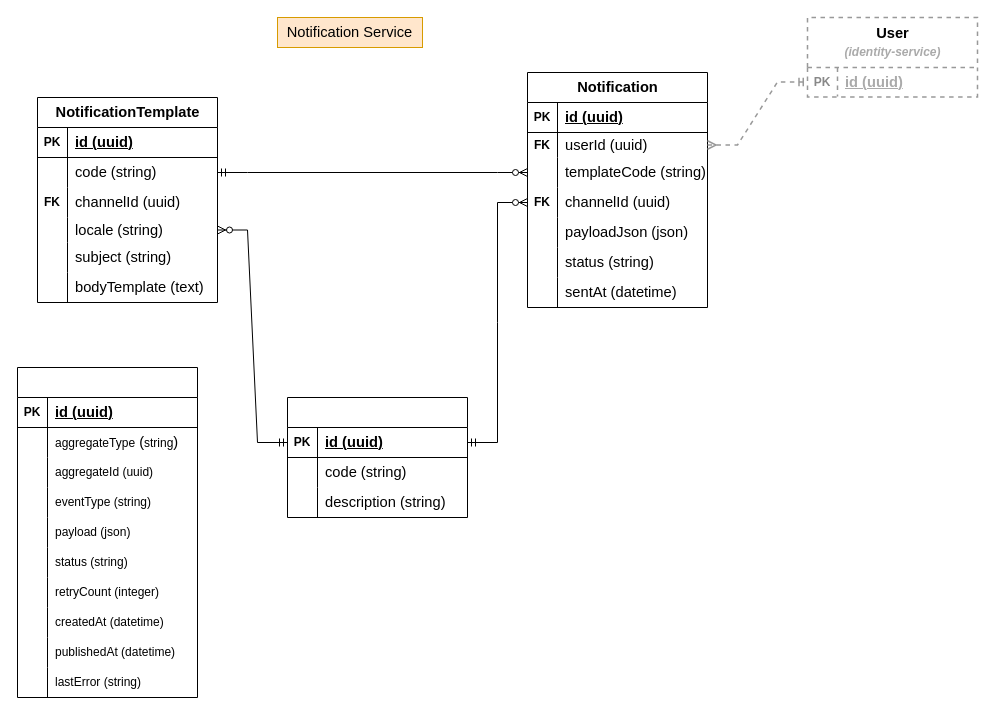
This 996x716 diagram has some shape labels left out. Each missing label, with the box of its shape:
Channel: (286, 396, 468, 518)
OutboxEvent: (16, 366, 198, 698)
